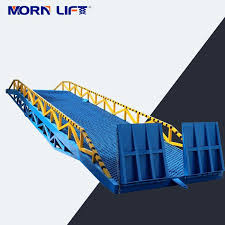Yard Ramp: (3, 79, 224, 197)
